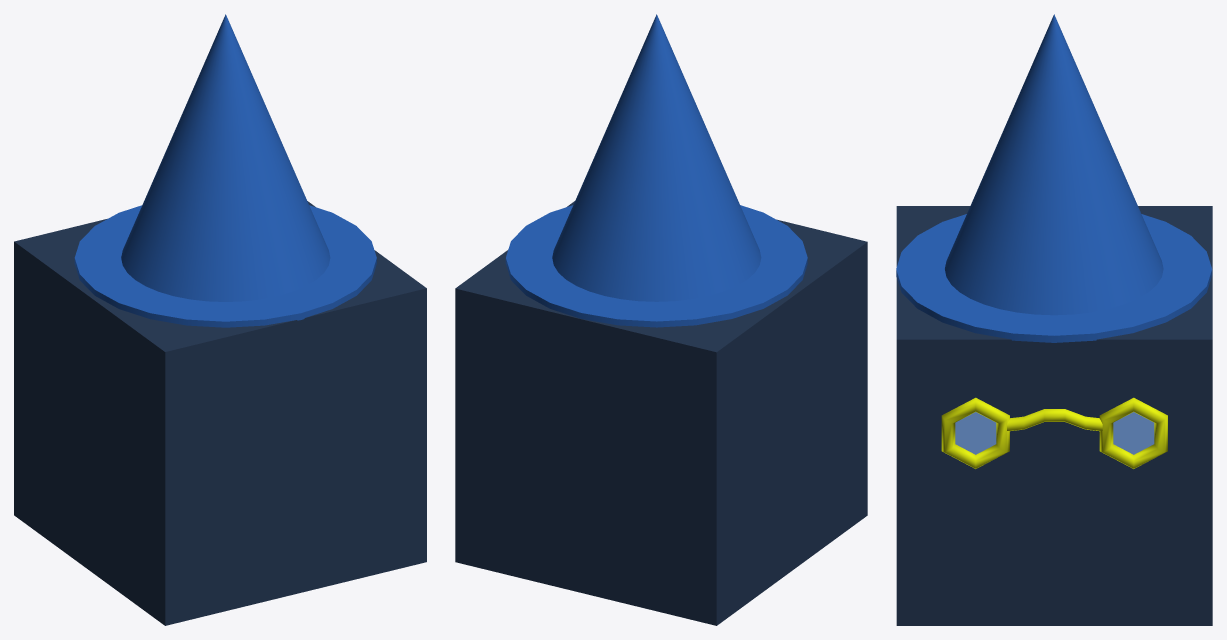
Rendered from Wizard.fbx.
3 views of the same model, side by side, from view 1: azimuth 30°, elevation 25°; view 2: azimuth 150°, elevation 25°; view 3: azimuth 270°, elevation 25° (orthographic). The views are drawn at different scales.
Parts seen in each view (by area): view 1: Cube, Cone, Hat; view 2: Cube, Cone, Hat; view 3: Cube, Cone, Hat, Torus, Torus_1, Disc_2, Disc, Cylinder.
Boxes of the visible parts, box(x1,y1,x2,y2) form: Cube: box(14, 201, 426, 625); Cone: box(121, 14, 330, 301); Hat: box(74, 205, 376, 327); Cube: box(455, 201, 867, 625); Cone: box(552, 14, 761, 301); Hat: box(505, 205, 807, 327); Cube: box(896, 206, 1212, 625); Cone: box(945, 14, 1163, 315); Hat: box(896, 214, 1212, 342); Torus: box(941, 397, 1009, 468); Torus_1: box(1099, 397, 1167, 468); Disc_2: box(955, 412, 996, 454); Disc: box(1113, 412, 1154, 454); Cylinder: box(1007, 409, 1102, 431).
Bounding box in the file's own units: 210 × 383 × 200.
